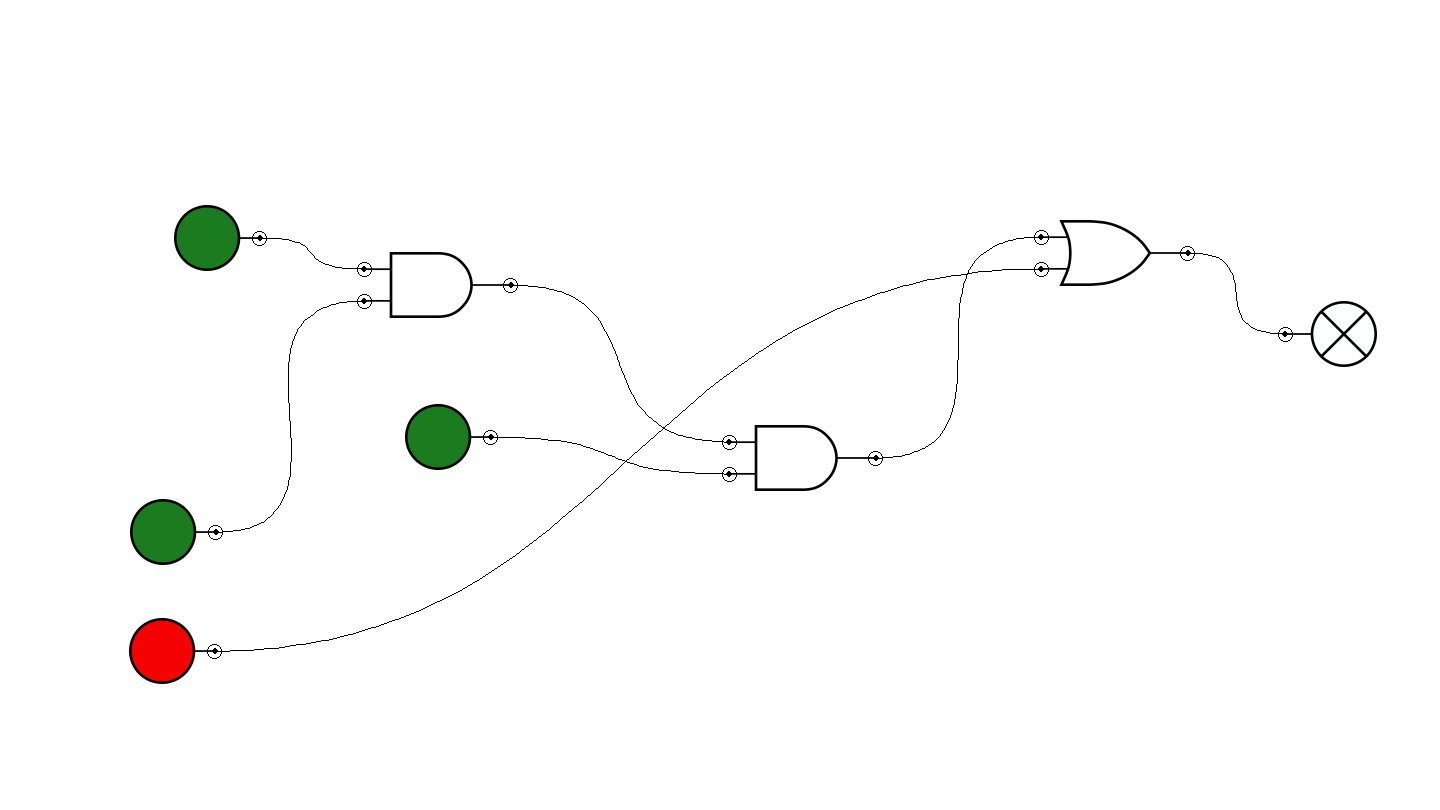and: (722, 425, 883, 491), (357, 252, 518, 318)
bulb: (1278, 301, 1377, 367)
or: (1034, 220, 1195, 286)
switch_False: (129, 618, 222, 684)
switch_True: (174, 205, 267, 271), (405, 404, 498, 470), (130, 499, 223, 565)
